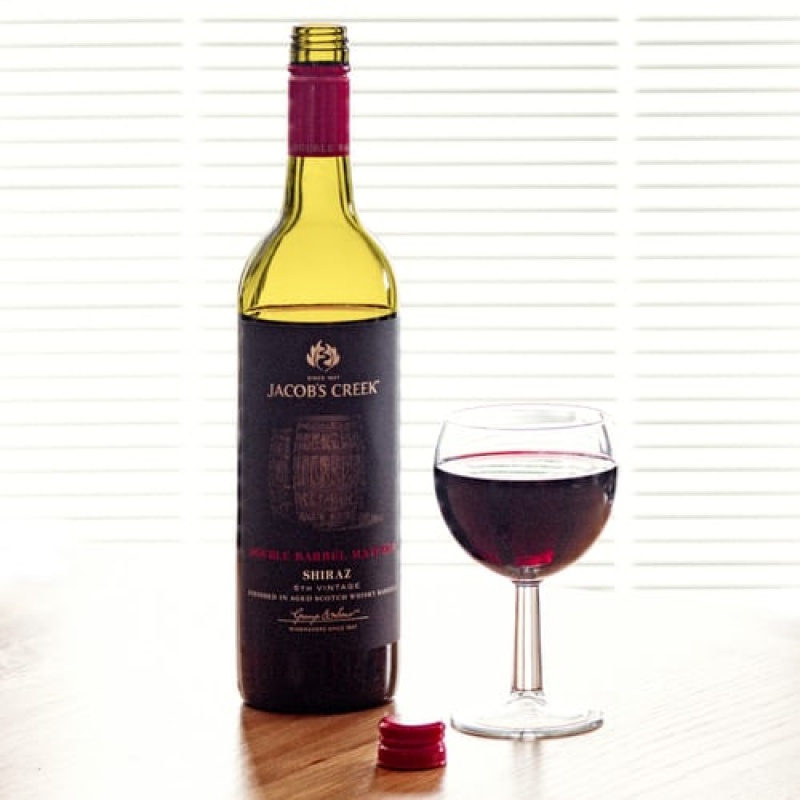wine: (238, 21, 411, 716)
